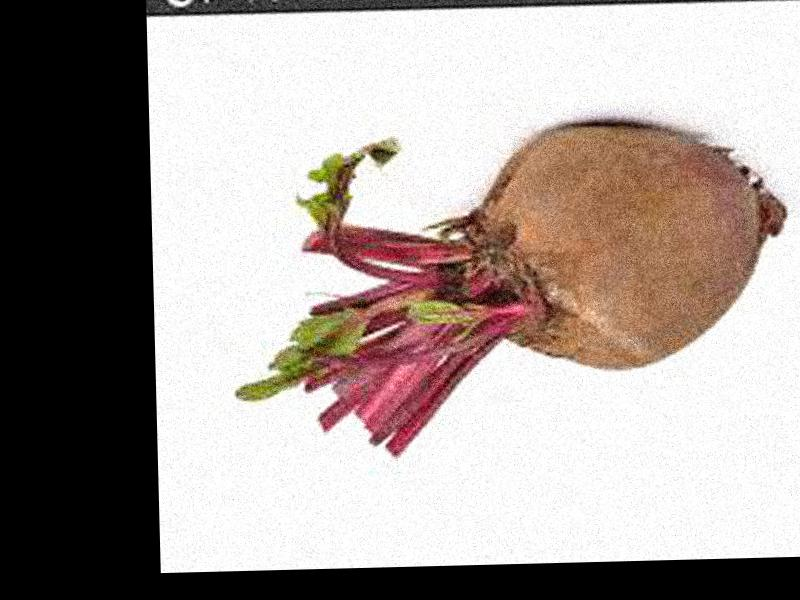Beet: (229, 115, 792, 460)
